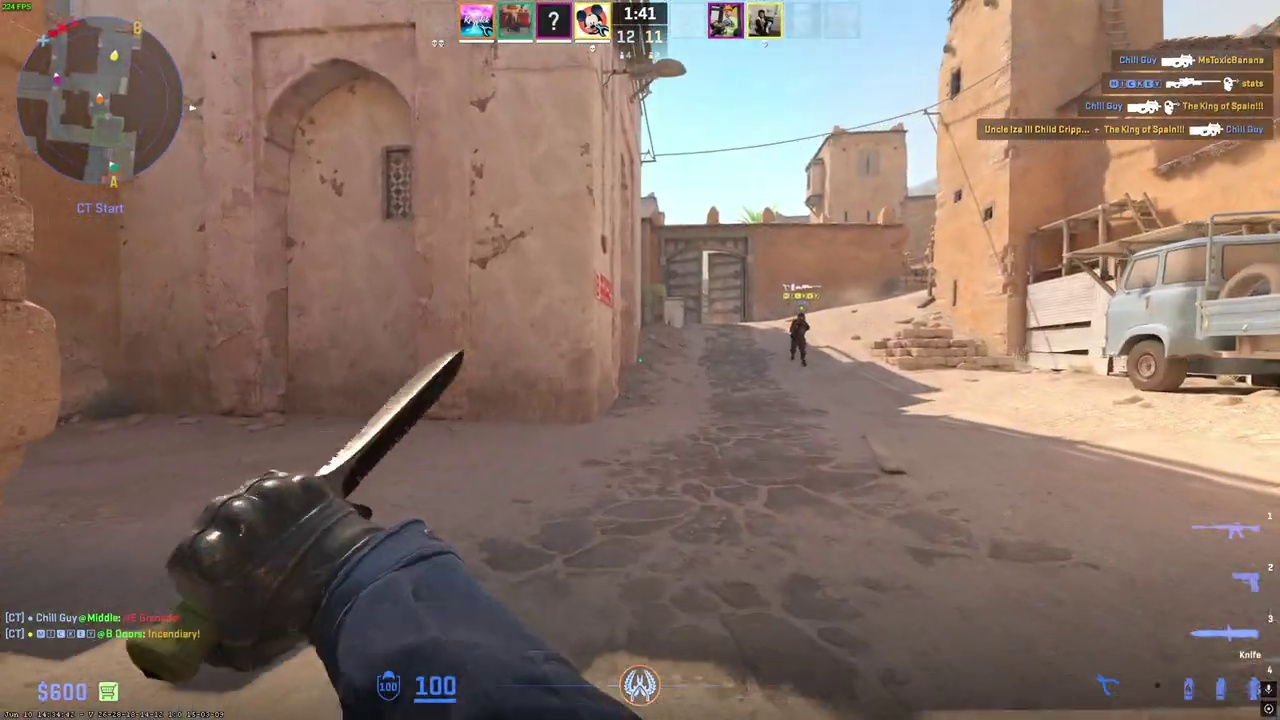CT: (789, 312, 810, 366)
